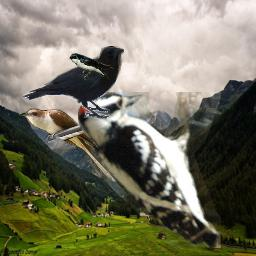Crow: (23, 46, 124, 120)
Cuckoo: (19, 108, 117, 183)
Swallow: (69, 53, 116, 80)
Woodpecker: (78, 92, 221, 248)
